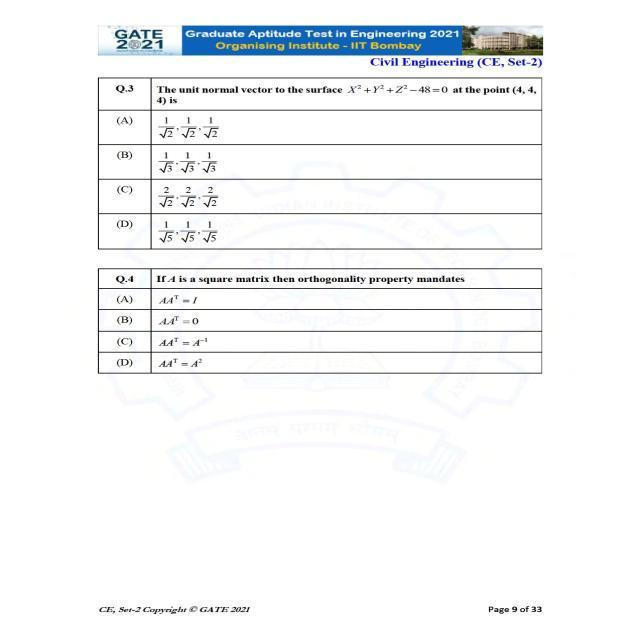Answer_Block: (56, 112, 596, 248), (56, 290, 596, 420)
Question_Answer_Block: (56, 68, 596, 248), (56, 268, 596, 420)
Question_Block: (56, 67, 596, 111), (56, 268, 596, 290)
Question_Paper_Area: (56, 68, 596, 420)
